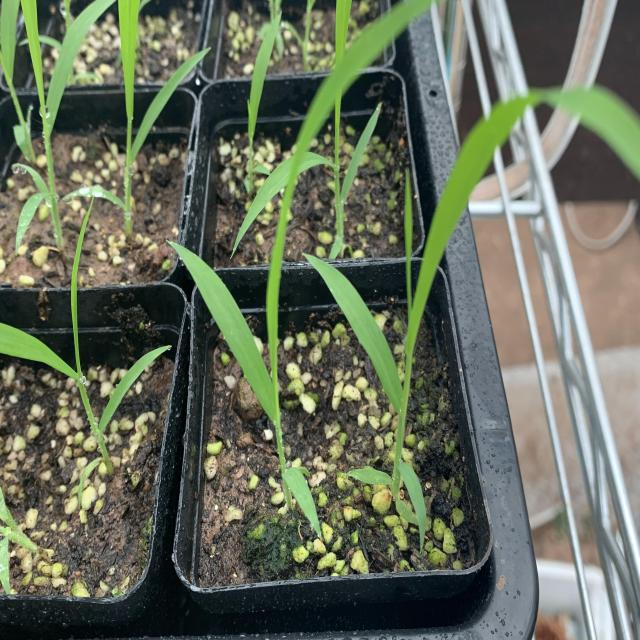crabgrass: (346, 49, 559, 532), (199, 22, 355, 546), (0, 219, 157, 463), (82, 0, 209, 231), (2, 0, 98, 246)
